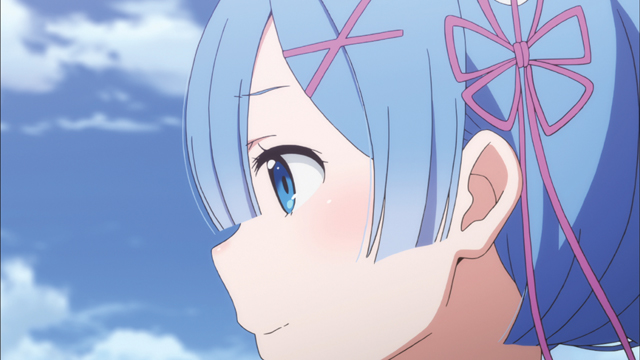rem: (178, 2, 638, 360)
